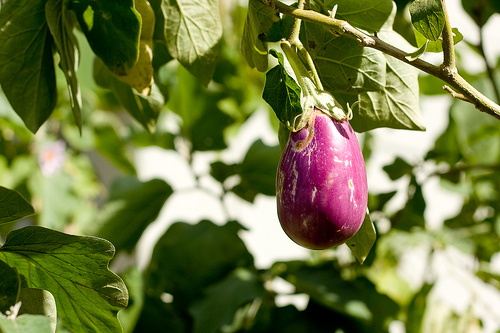eggplant: (267, 75, 375, 260)
